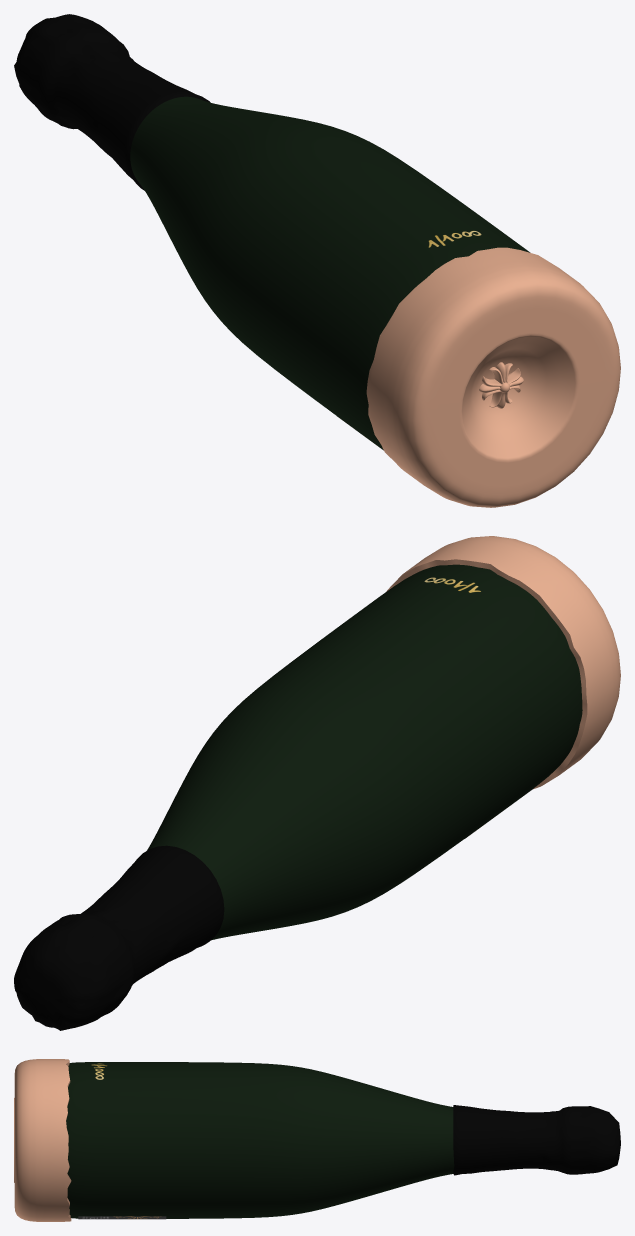
File: KxCHBottle11.glb
3 renders of one model, top to bottom at view 1: azimuth 30°, elevation 25°; view 2: azimuth 150°, elevation 25°; view 3: azimuth 270°, elevation 25°, orthographic. The views are drawn at different scales.
Parts seen in each view (by area): view 1: OG, Base without top.002, Cylinder.007, Base without top.001, object_3; view 2: OG, Cylinder.007, Base without top.002; view 3: OG, Cylinder.007, Base without top.002, Plane.001.
Boxes of the visible parts, x1,y1,x2,y2 form: OG: (130,96,530,449); Base without top.002: (366,247,620,507); Cylinder.007: (14,14,210,190); Base without top.001: (459,333,579,462); object_3: (479,362,523,408); OG: (147,564,582,940); Cylinder.007: (14,845,224,1030); Base without top.002: (386,536,620,789); OG: (66,1062,454,1218); Cylinder.007: (453,1105,620,1175); Base without top.002: (14,1059,71,1221); Plane.001: (78,1216,166,1219).
Size of the model in its own units: 0.69 by 0.69 by 2.57.
Materials: 8 (2 with a texture image).
